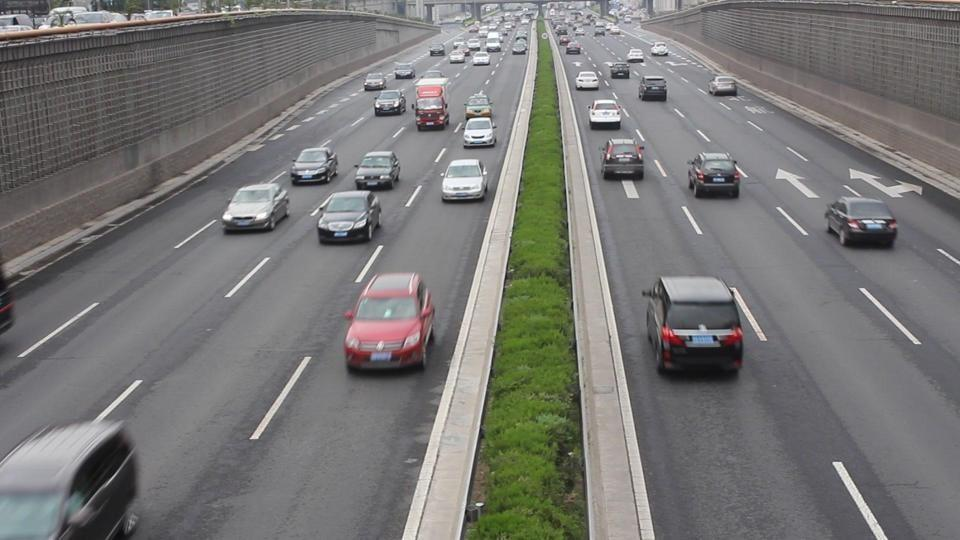car: (0, 418, 144, 537), (642, 275, 745, 377), (342, 270, 436, 372), (313, 190, 383, 245), (824, 196, 898, 248), (222, 183, 291, 233), (686, 151, 744, 199), (440, 158, 489, 202), (354, 150, 402, 190), (601, 138, 646, 180), (290, 147, 338, 185), (587, 98, 624, 130), (462, 116, 497, 148), (0, 268, 16, 336), (373, 89, 406, 116), (638, 76, 668, 101), (708, 74, 738, 97), (575, 69, 600, 90), (364, 74, 386, 92)
